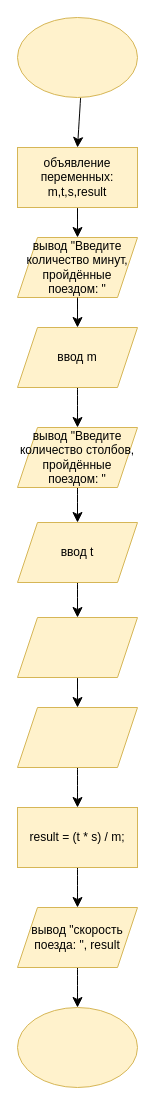
Image size: 155x1105. Some labels were removed from this diagram. The shapes that lost their labels are listed below. From the top down, each one's box as (x1, y1, x2, y2) in pixels, then its label:
(16, 16, 138, 98): начало
(16, 616, 138, 678): вывод "Введите расстояние между столбами: "
(16, 706, 138, 768): ввод s
(16, 1006, 138, 1088): конец
